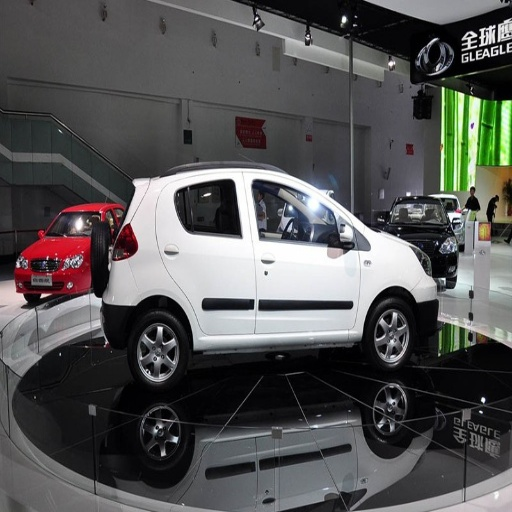back_bumper: (45, 295, 127, 347)
back_right_door: (160, 171, 254, 340)
back_right_light: (98, 208, 137, 264)
trunk: (28, 238, 86, 344), (104, 431, 137, 493)
